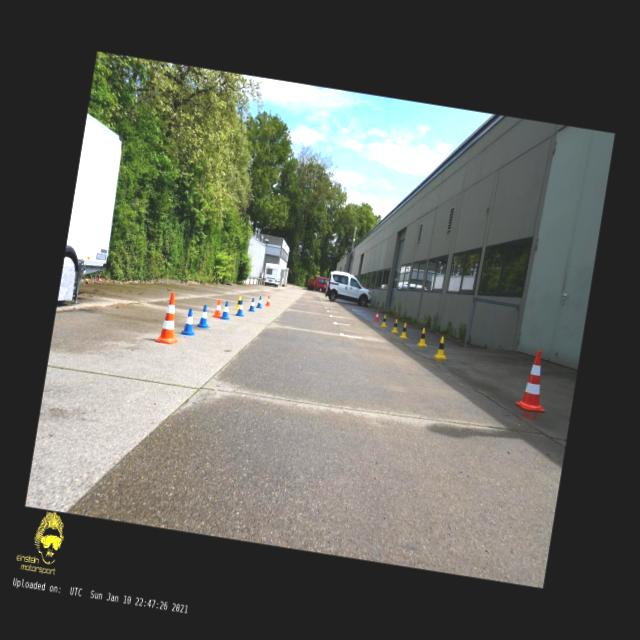blue_cone: (182, 308, 198, 336), (197, 304, 211, 328), (221, 302, 231, 320), (236, 301, 245, 316), (248, 298, 256, 312), (256, 296, 263, 308)
large_orange_cone: (514, 348, 554, 412), (156, 292, 186, 345)
orange_cone: (212, 300, 224, 318), (374, 310, 380, 322), (266, 296, 272, 306)
yellow_cone: (434, 336, 450, 360), (418, 328, 430, 348), (400, 323, 409, 339), (392, 318, 399, 334), (380, 314, 388, 328), (235, 296, 241, 310)
